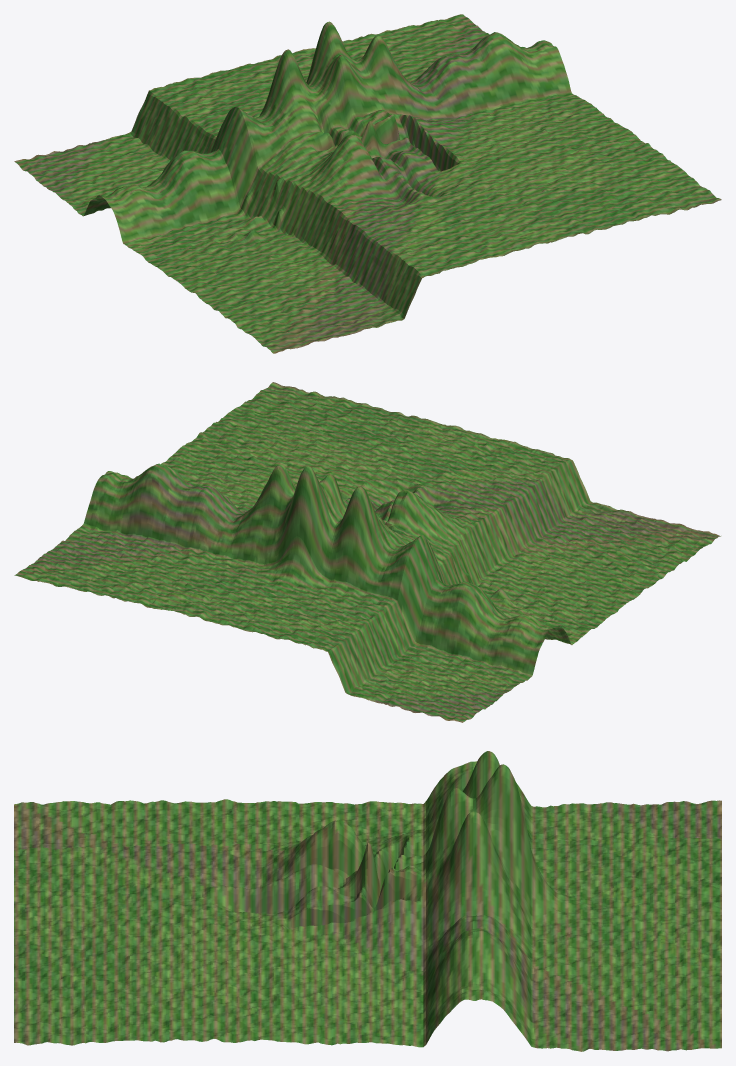
Rendered from terrain.glb.
3 views of the same model, one above another, from view 1: azimuth 30°, elevation 25°; view 2: azimuth 150°, elevation 25°; view 3: azimuth 270°, elevation 25° (orthographic). The views are drawn at different scales.
Parts seen in each view (by area): view 1: Terrain; view 2: Terrain; view 3: Terrain.
Part boxes in pixels (x1=…): Terrain: x1=14, y1=14, x2=721, y2=353; Terrain: x1=14, y1=382, x2=720, y2=722; Terrain: x1=14, y1=751, x2=721, y2=1051.
Bounding box in the file's own units: 9000 × 2796 × 9000.
